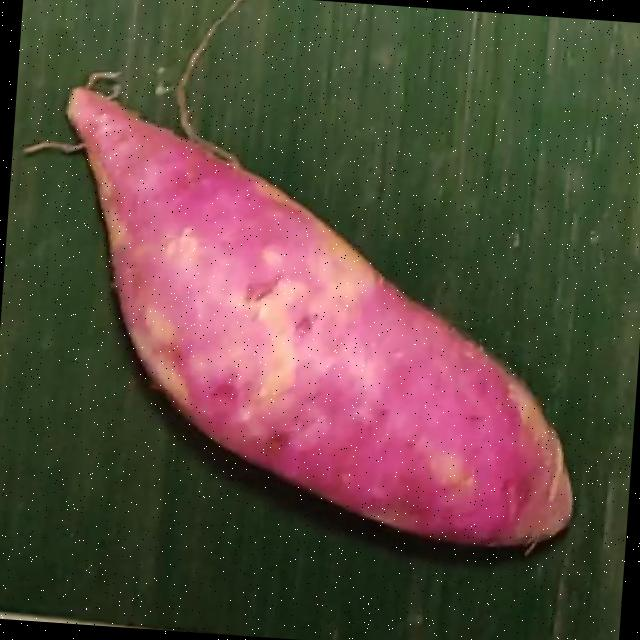Sweet Potato: (45, 80, 568, 544)
